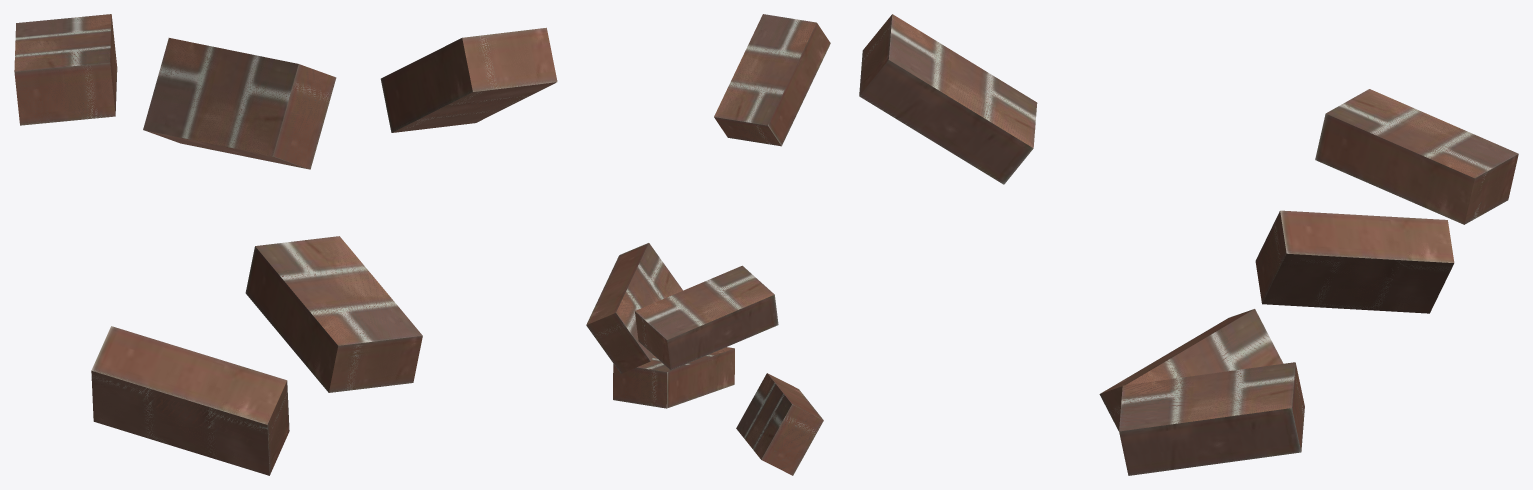
File: bricks_3.dae
The picture shows the model from 3 angles, left to right: view 1: azimuth 30°, elevation 25°; view 2: azimuth 150°, elevation 25°; view 3: azimuth 270°, elevation 25°; orthographic projection. The views are drawn at different scales.
Parts seen in each view (by area): view 1: group_3, group_2, group_4, group_1, group_5; view 2: group_1, group_5, group_4, group_3, group_2; view 3: group_4, group_2, group_1, group_5, group_3.
Part boxes in pixels (bbox=[...]): group_3: bbox=[91, 326, 289, 475]; group_2: bbox=[245, 236, 422, 392]; group_4: bbox=[143, 38, 336, 169]; group_1: bbox=[380, 27, 557, 132]; group_5: bbox=[14, 14, 117, 125]; group_1: bbox=[714, 14, 830, 146]; group_5: bbox=[635, 265, 778, 370]; group_4: bbox=[586, 243, 682, 373]; group_3: bbox=[736, 373, 823, 475]; group_2: bbox=[613, 347, 734, 408]; group_4: bbox=[1255, 210, 1454, 313]; group_2: bbox=[1119, 362, 1304, 475]; group_1: bbox=[859, 14, 1037, 184]; group_5: bbox=[1315, 89, 1518, 224]; group_3: bbox=[1099, 309, 1283, 430].
Bounding box in the file's own units: 8.06 × 17.36 × 14.13.
Materials: 3 (3 with a texture image).
